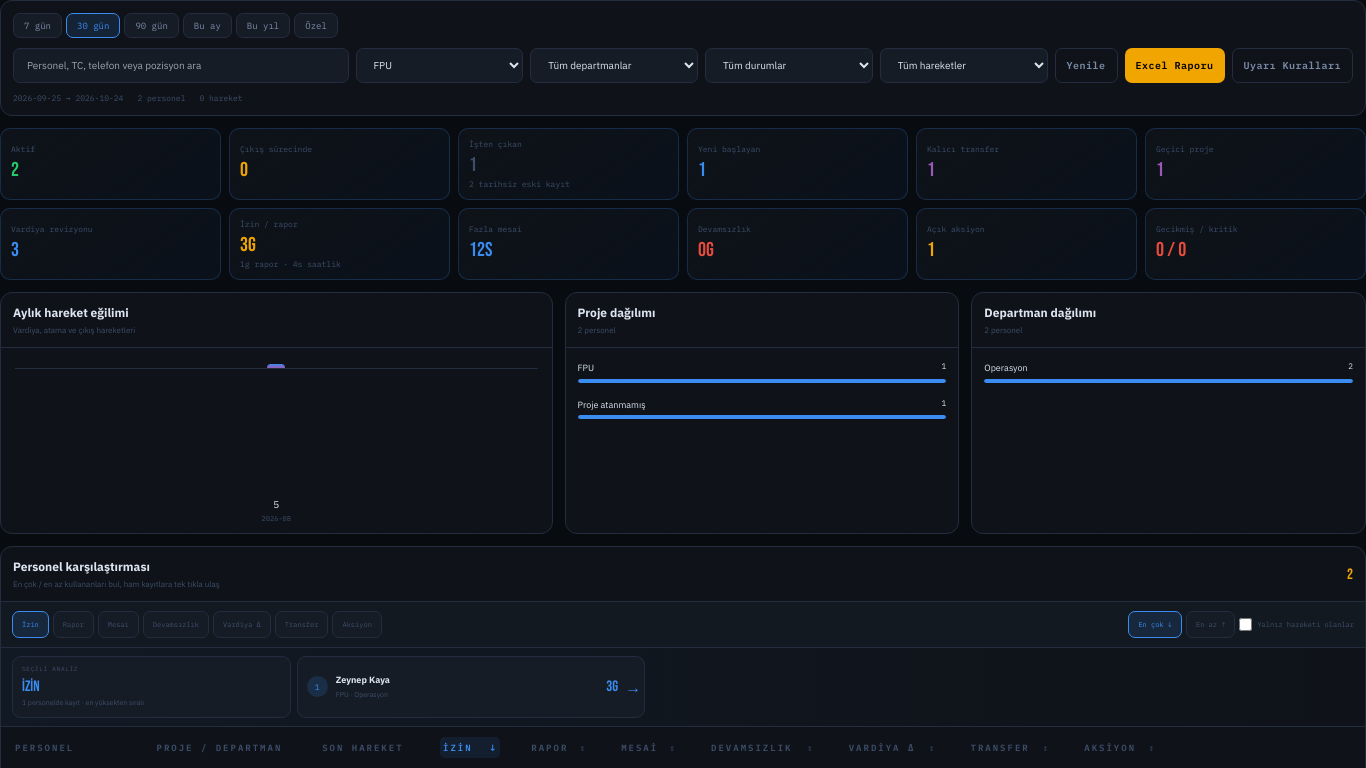
Test: Personel Takip Merkezi ayrıntı paneli › Escape ile kapanır, temel filtreleri korur ve odağı açan karta döndürür
Click the button with aria-label "Aktif ayrıntısını aç" at x=110, y=164, box [0,128,221,200]
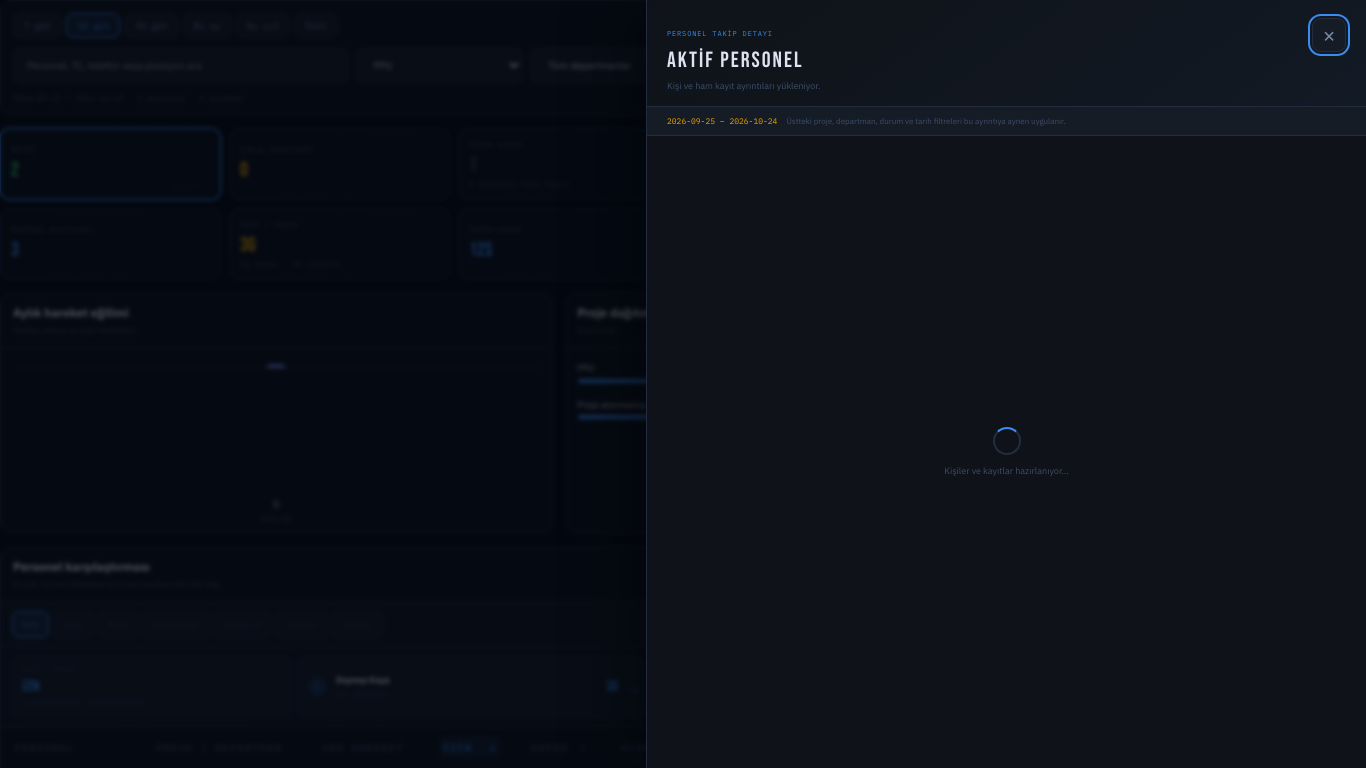
Check: the dialog "Aktif personel" is shown, box [646,0,1365,767]
Press Escape
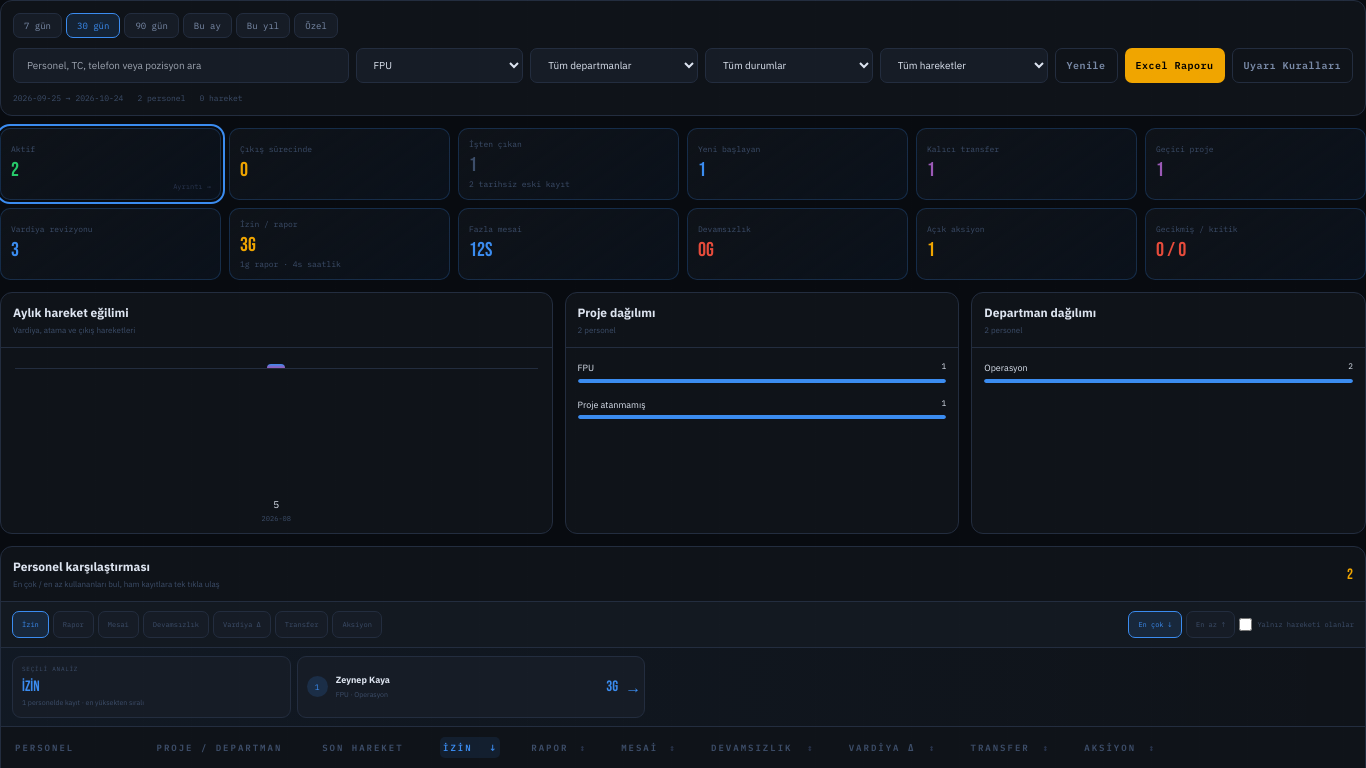
Check: the dialog is gone
